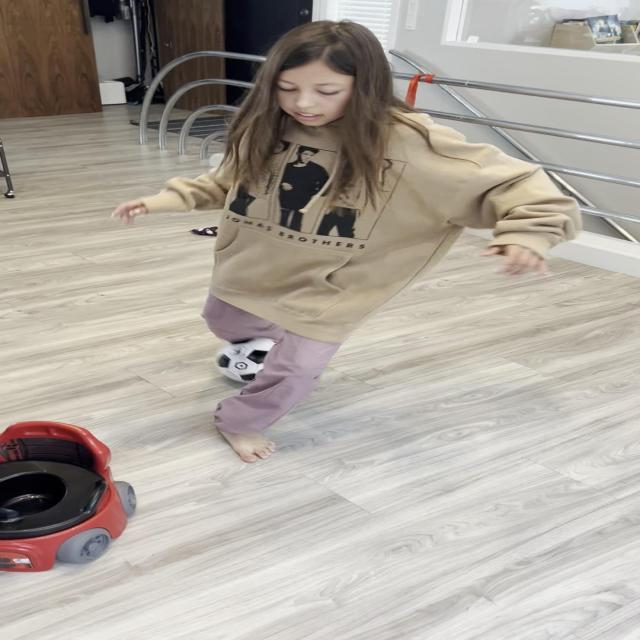Soccer Ball: (216, 337, 298, 385)
